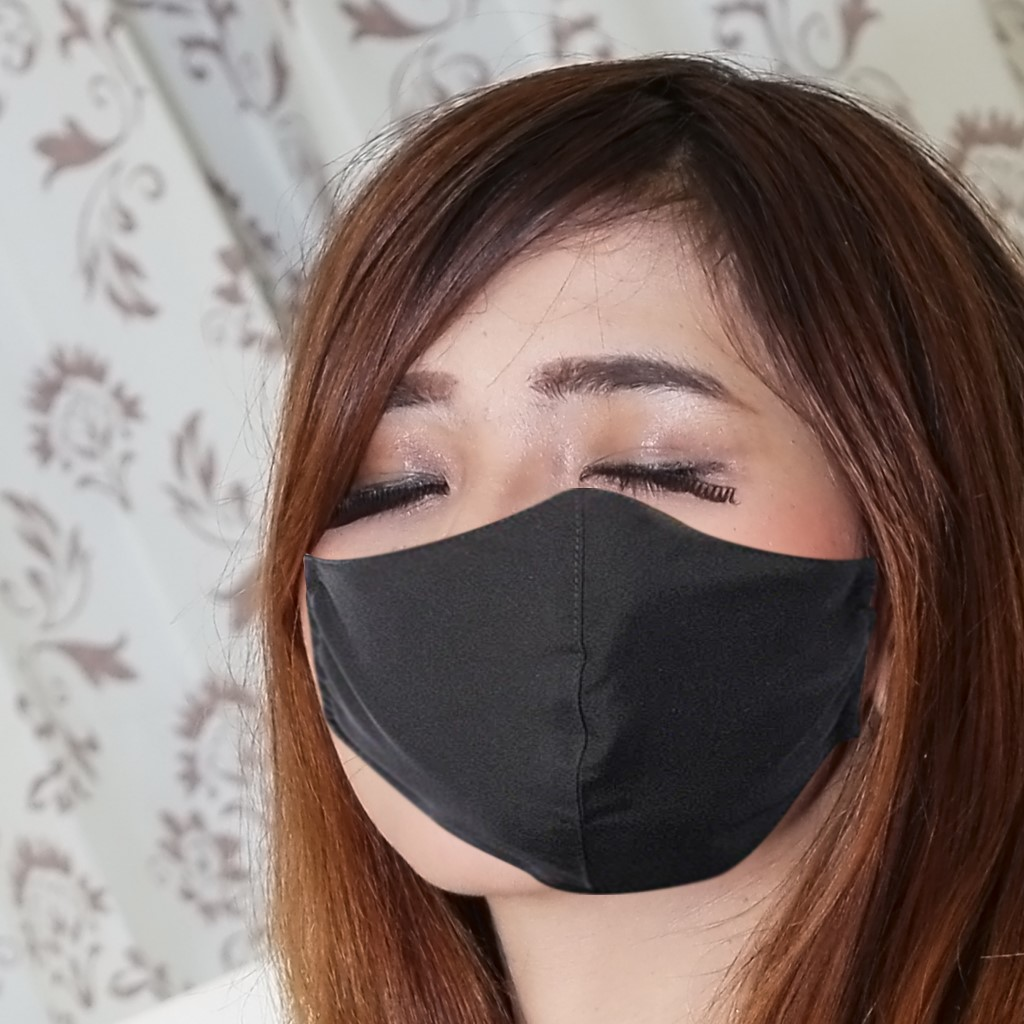con_mascara: (284, 236, 877, 890)
